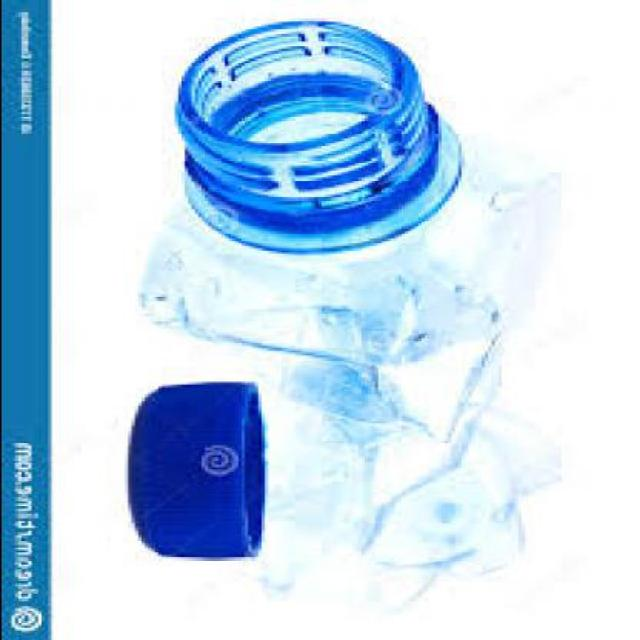PLASTIC: (139, 22, 567, 613), (130, 384, 270, 562)
